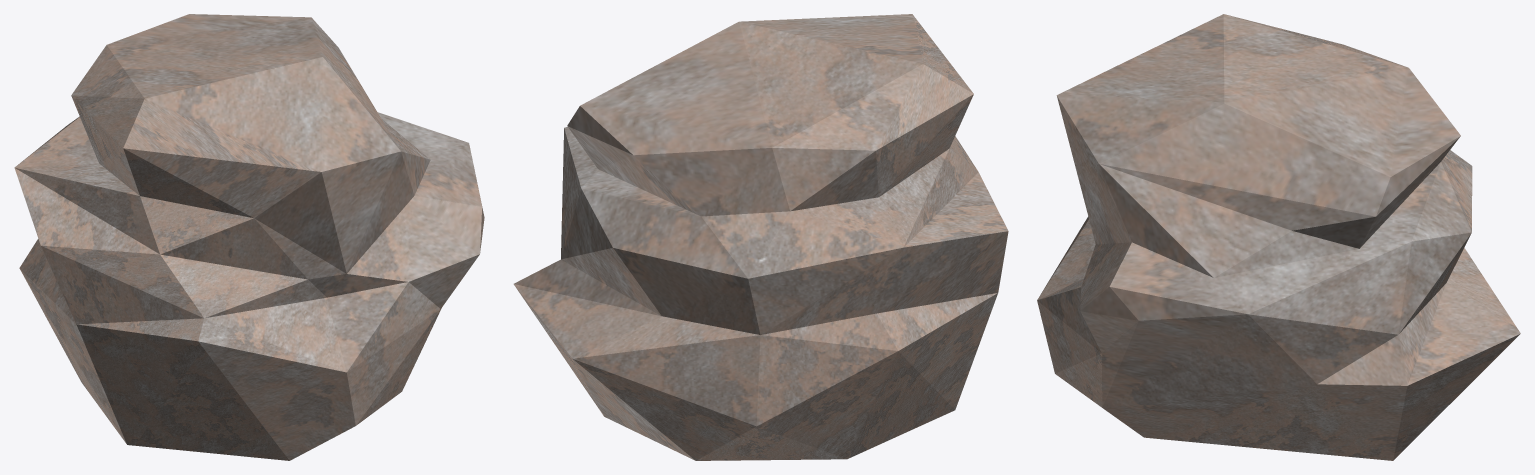
File: stone10.fbx
3 views of the same model, side by side, from view 1: azimuth 30°, elevation 25°; view 2: azimuth 150°, elevation 25°; view 3: azimuth 270°, elevation 25° (orthographic). The views are drawn at different scales.
Visible parts, largest first — view 1: Group18554; view 2: Group18554; view 3: Group18554.
Boxes of the visible parts, x1=… form: Group18554: x1=14, y1=14, x2=484, y2=460; Group18554: x1=513, y1=14, x2=1008, y2=460; Group18554: x1=1037, y1=14, x2=1520, y2=460.
Size of the model in its own units: 320 by 239 by 311.
